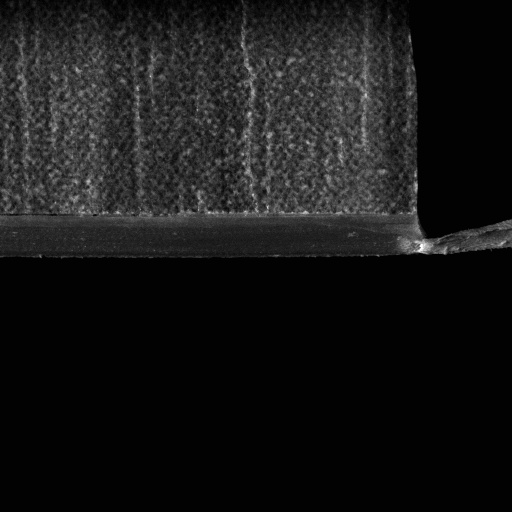changdai: (413, 214, 511, 259)
